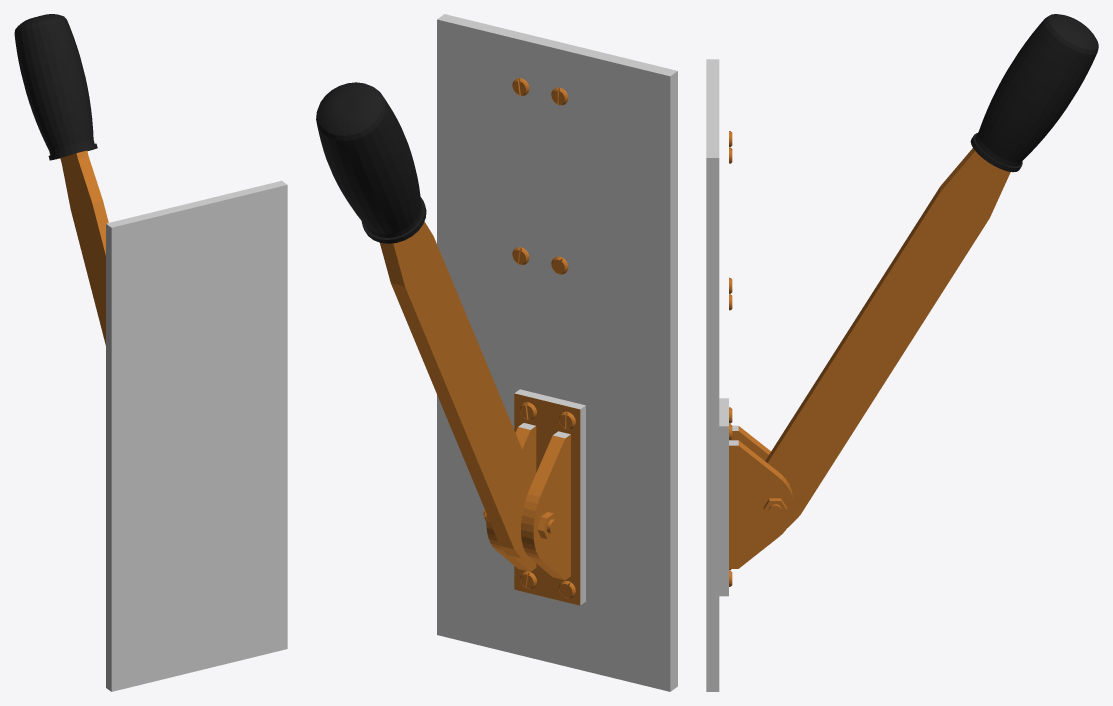
File: Switch.FBX
3 renders of one model, left to right at view 1: azimuth 30°, elevation 25°; view 2: azimuth 150°, elevation 25°; view 3: azimuth 270°, elevation 25°, orthographic. The views are drawn at different scales.
Visible parts, largest first — view 1: skp1DD3_00, Component3; view 2: skp1DD3_00, Component3; view 3: Component3, skp1DD3_00.
Boxes of the visible parts, x1,y1,x2,y2 form: skp1DD3_00: [106, 180, 287, 691]; Component3: [14, 14, 108, 345]; skp1DD3_00: [437, 14, 677, 691]; Component3: [316, 82, 533, 559]; Component3: [765, 14, 1098, 527]; skp1DD3_00: [706, 59, 793, 691].
Bounding box in the file's own units: 9 × 26.51 × 15.11.
